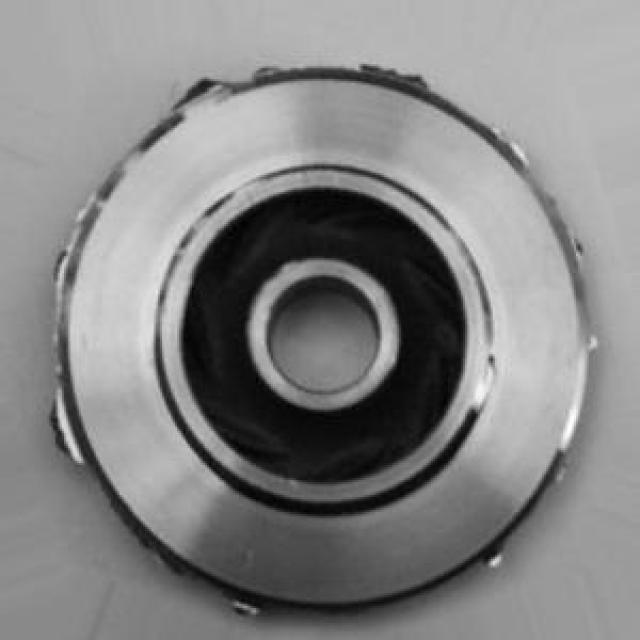Defect: (365, 51, 426, 94), (46, 388, 80, 460)
